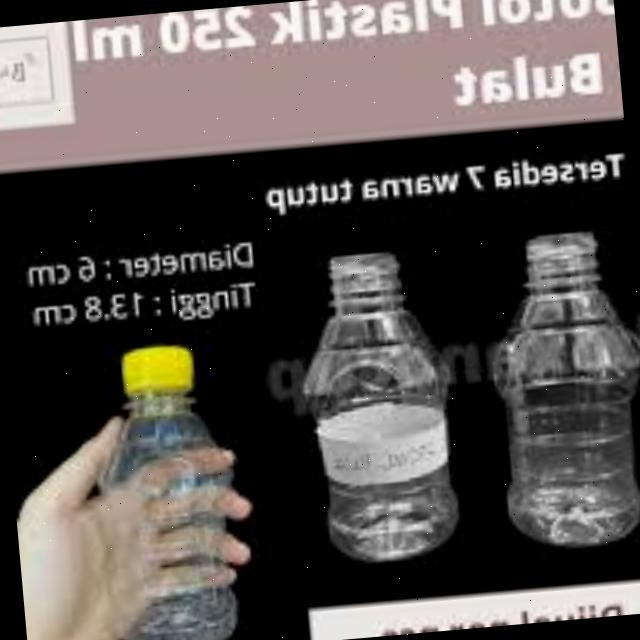trash: (287, 235, 474, 577), (480, 220, 640, 552), (91, 332, 248, 640)
